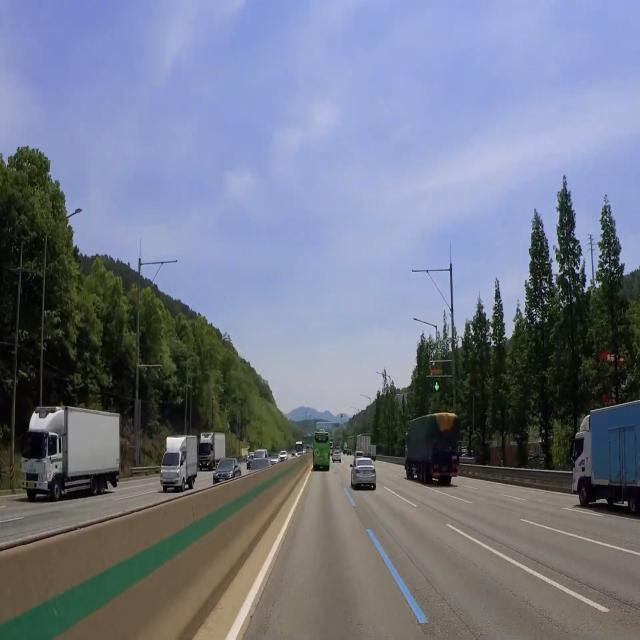car: (358, 466, 373, 480), (438, 461, 451, 476), (25, 478, 36, 492)
